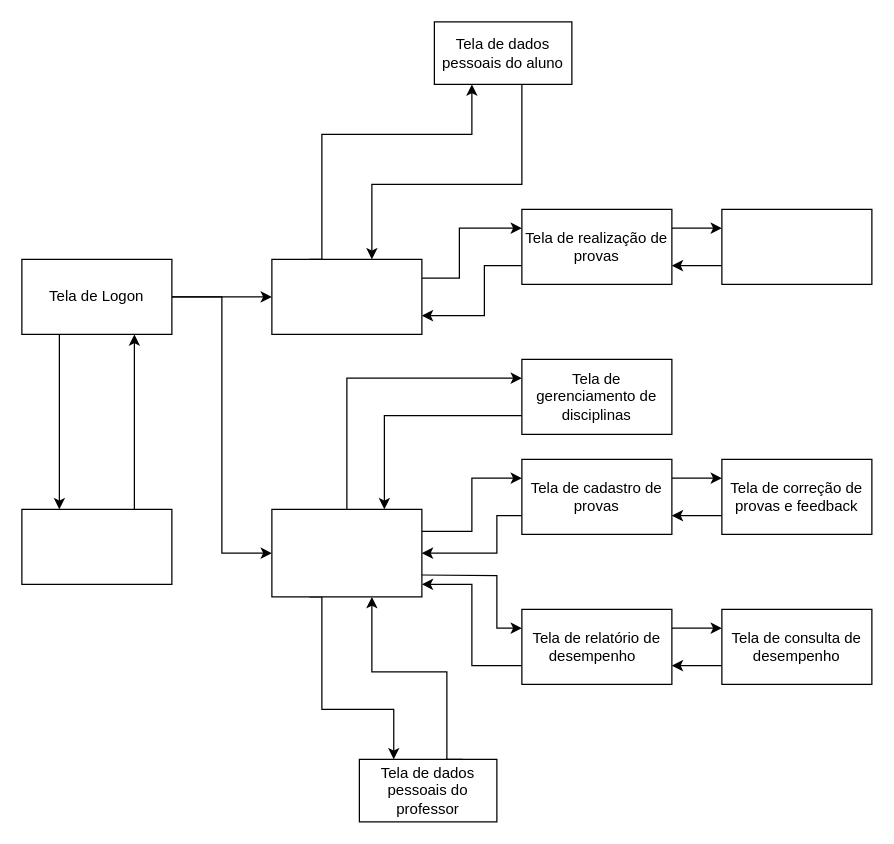
The diagram is 894 pixels wide and 844 high, and some of its shapes have lost their labels. The centre of each missing label's shape, as x and y in pixels:
Tela de cadastro de úsuario: [96,546]
Tela de consulta de notas e feedback: [796,246]
Tela principal do aluno: [346,296]
Tela principal do professor: [346,552]
